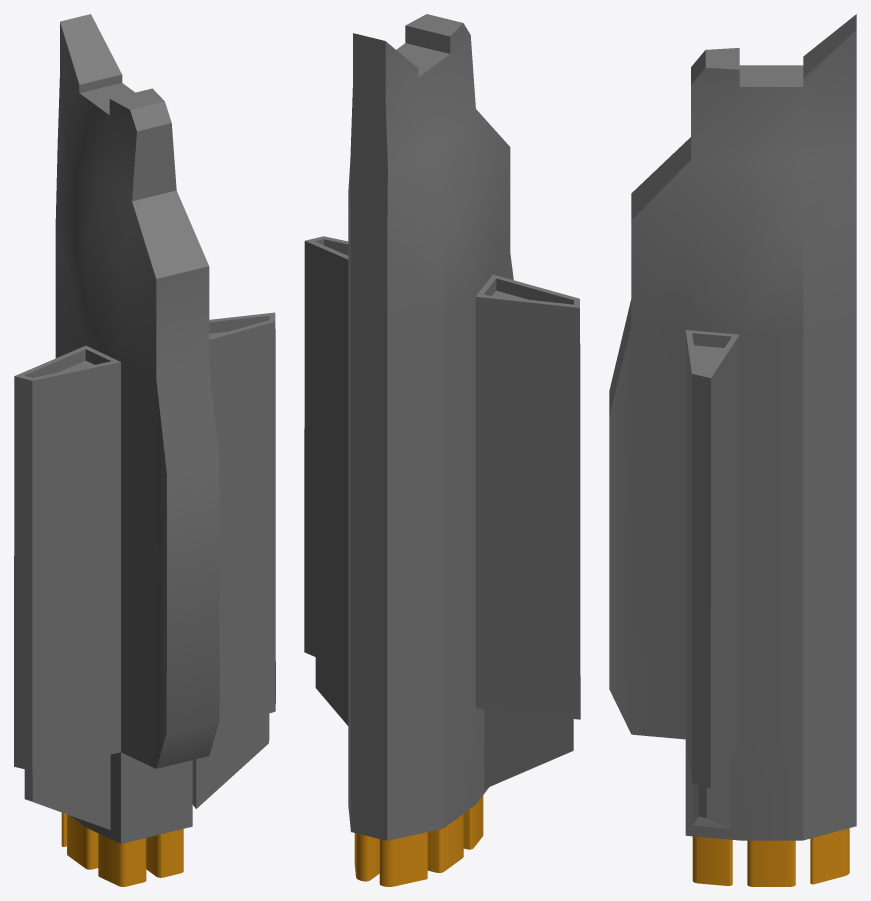
Rendered from Another Test Ship.fbx.
3 renders of one model, left to right at view 1: azimuth 30°, elevation 25°; view 2: azimuth 150°, elevation 25°; view 3: azimuth 270°, elevation 25°, orthographic. The views are drawn at different scales.
Visible parts, largest first — view 1: Cube; view 2: Cube; view 3: Cube.
Boxes of the visible parts, box(x1,y1,x2,y2) form: Cube: box(14, 14, 275, 886); Cube: box(304, 14, 580, 886); Cube: box(609, 14, 856, 886).
Size of the model in its own units: 586 by 1722 by 457.
